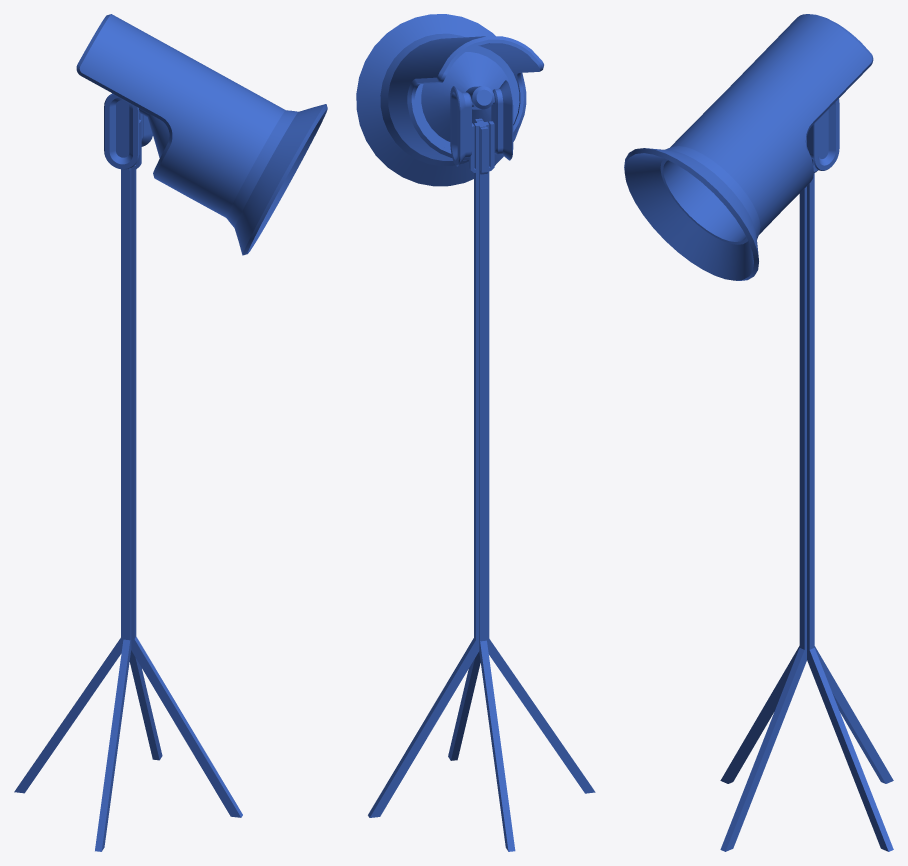
The model's file is 0007_lighting.glb.
3 views of the same model, side by side, from view 1: azimuth 30°, elevation 25°; view 2: azimuth 150°, elevation 25°; view 3: azimuth 270°, elevation 25° (orthographic).
Visible parts, largest first — view 1: Body5; view 2: Body5; view 3: Body5.
Part boxes in pixels (box(x1,y1,x2,y2)): Body5: box(14, 14, 327, 851); Body5: box(356, 14, 595, 851); Body5: box(624, 14, 893, 851).
Bounding box in the file's own units: 14.16 × 45.79 × 14.16.
